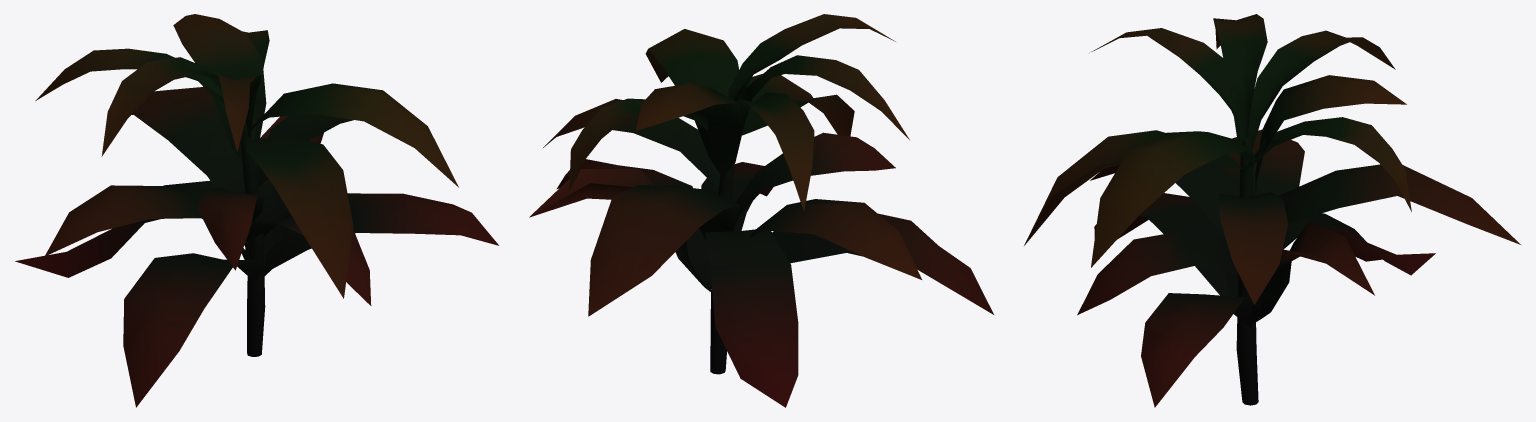
The model's file is TEM_Plant_04A.fbx.
3 views of the same model, side by side, from view 1: azimuth 30°, elevation 25°; view 2: azimuth 150°, elevation 25°; view 3: azimuth 270°, elevation 25° (orthographic). The views are drawn at different scales.
Visible parts, largest first — view 1: TEM_Plant_04A_LOD0; view 2: TEM_Plant_04A_LOD0; view 3: TEM_Plant_04A_LOD0.
Part boxes in pixels (<box>): TEM_Plant_04A_LOD0: <box>15,14,498,407</box>; TEM_Plant_04A_LOD0: <box>529,14,993,407</box>; TEM_Plant_04A_LOD0: <box>1024,14,1520,407</box>.
Size of what is drawn, in the model's own units: 139 by 105 by 140.
